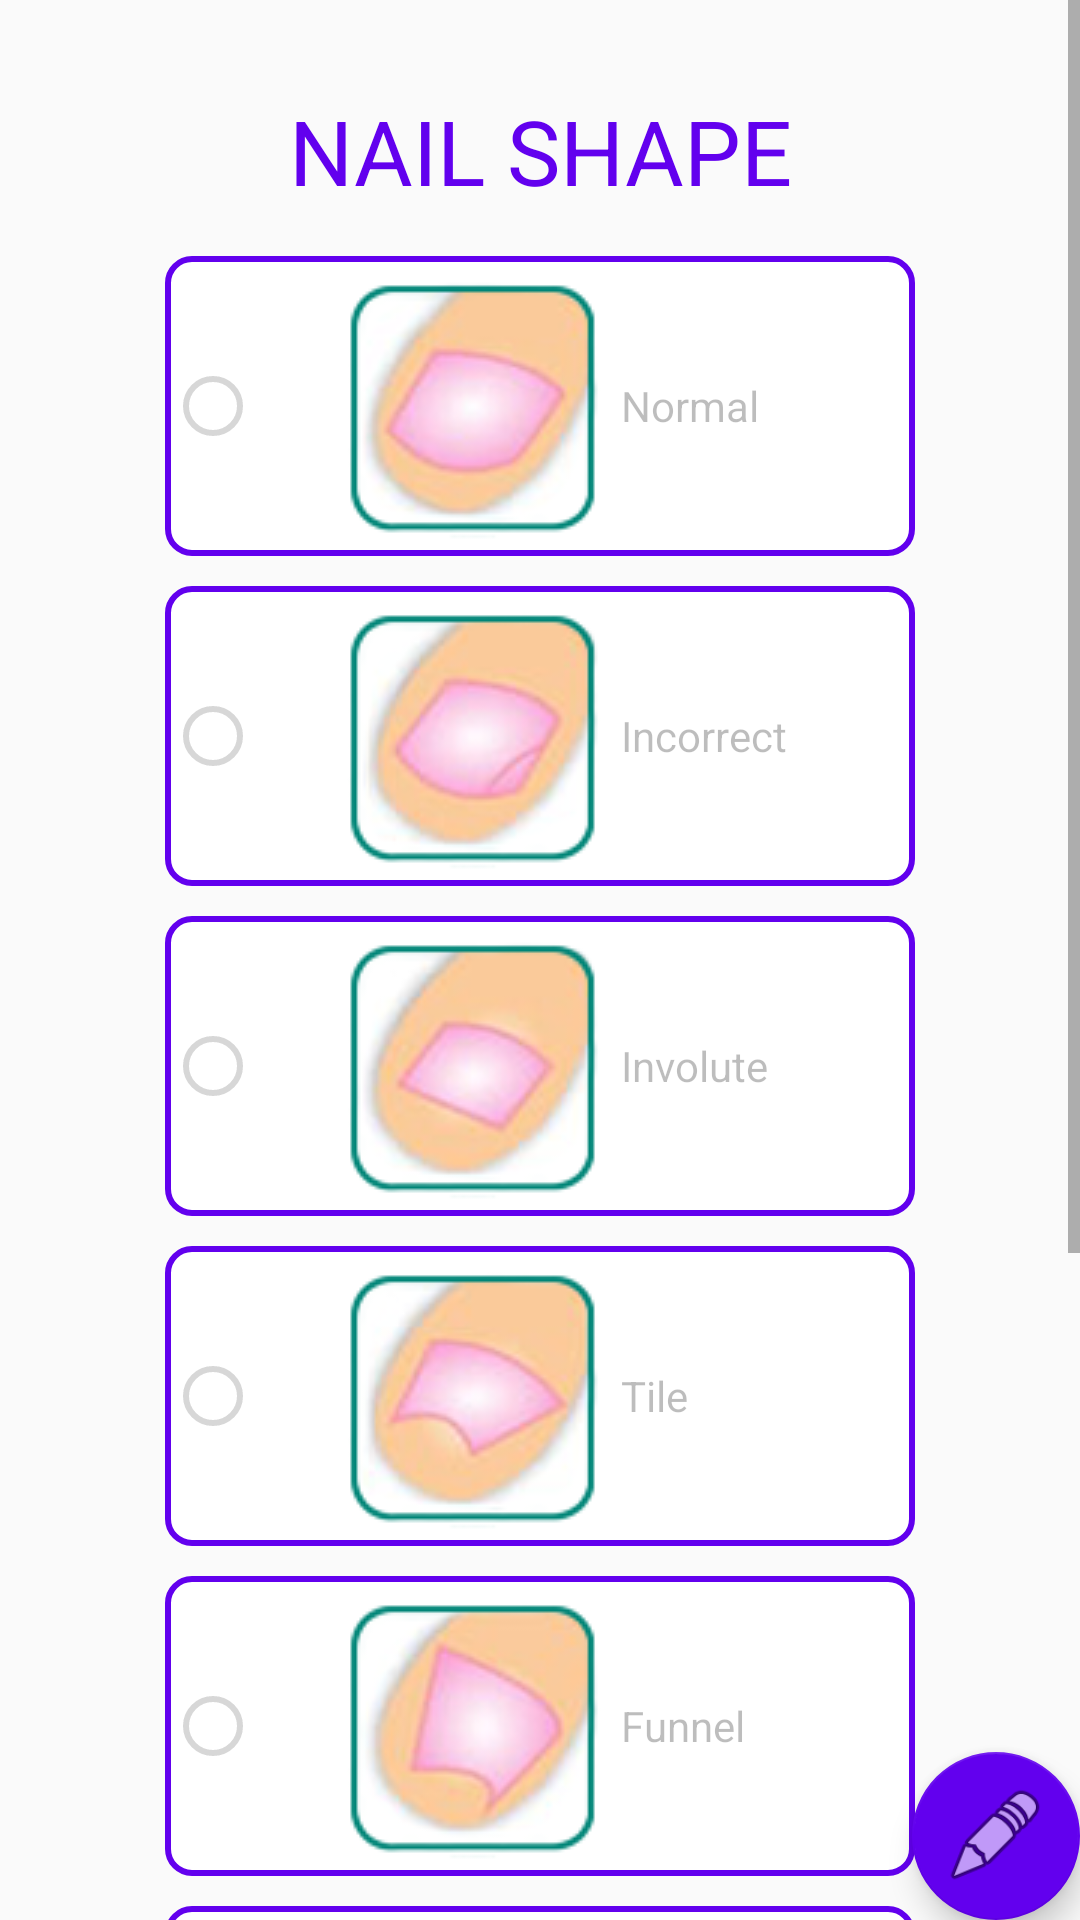

Where to tap for icons on this 1080×1920 app screen, as (x=x, y=y):
edit: (x=996, y=1836)
